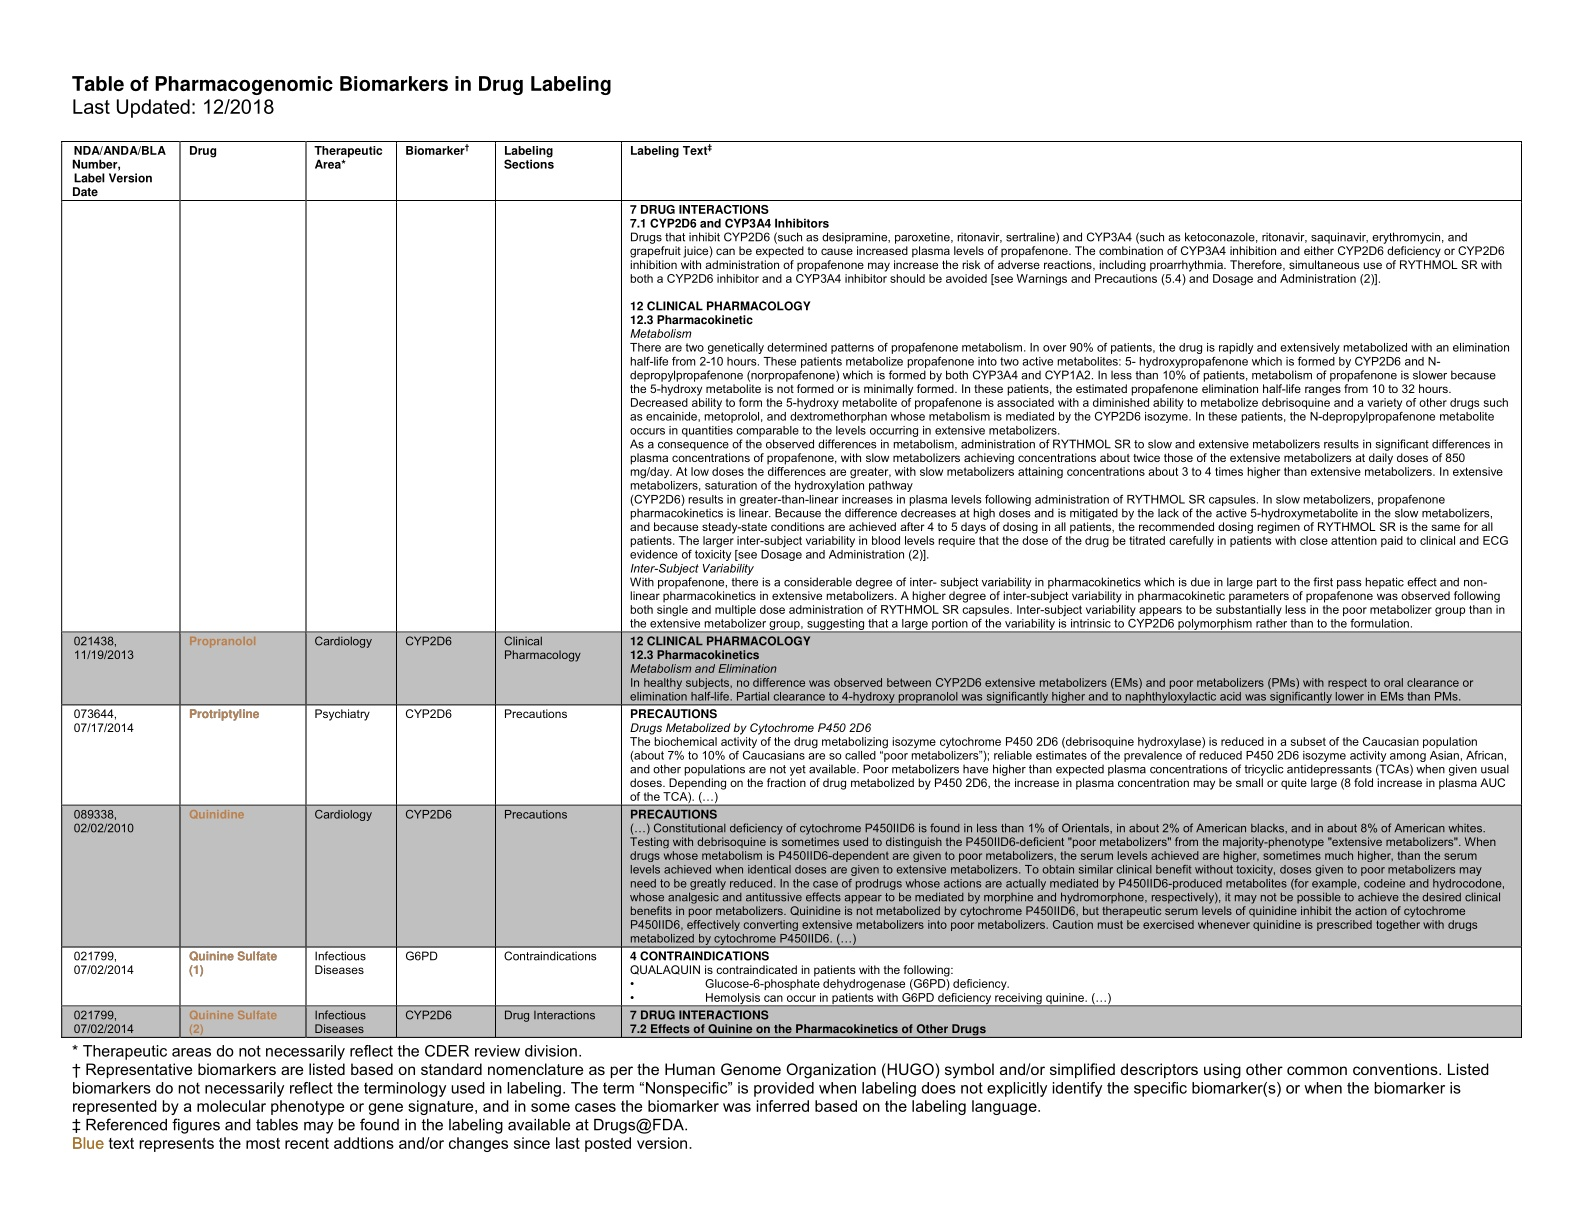full_lined: (59, 139, 1524, 1039)
